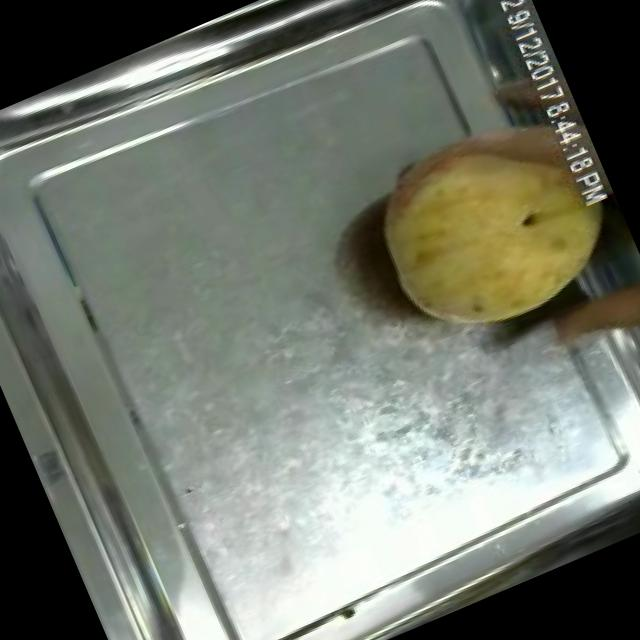Fruit: (343, 83, 640, 365)
